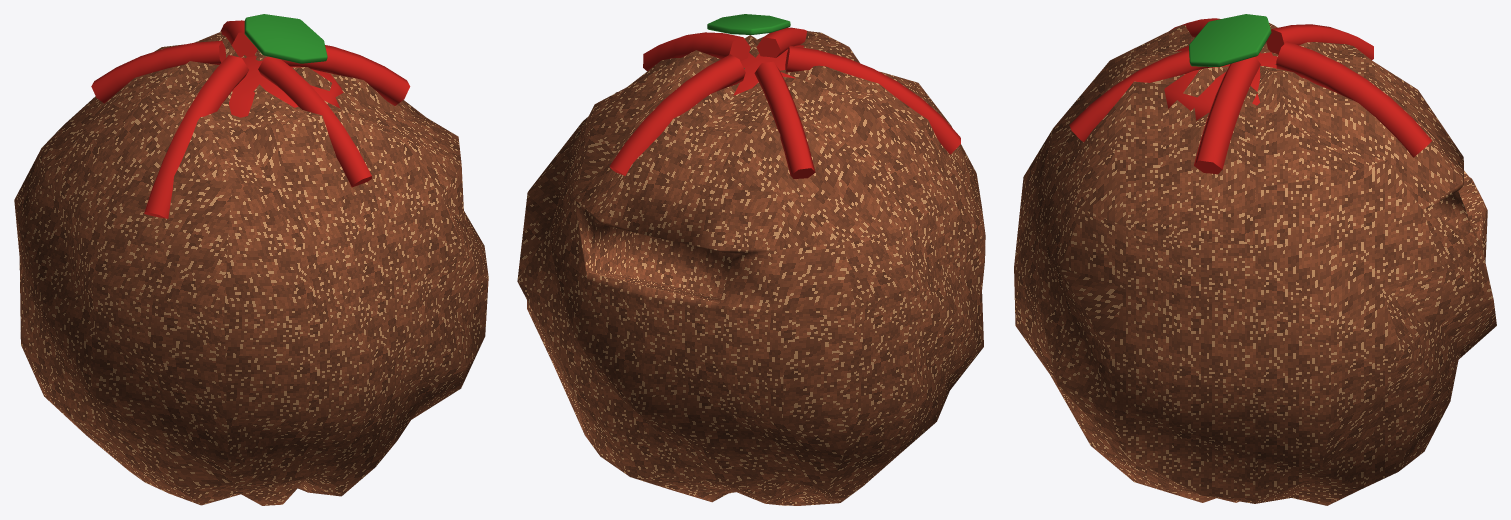
Rendered from x_wreck_meatball.glb.
The picture shows the model from 3 angles, left to right: view 1: azimuth 30°, elevation 25°; view 2: azimuth 150°, elevation 25°; view 3: azimuth 270°, elevation 25°; orthographic projection. The views are drawn at different scales.
Visible parts, largest first — view 1: ball_shell.002; view 2: ball_shell.002; view 3: ball_shell.002.
Boxes of the visible parts, box(x1,y1,x2,y2) form: ball_shell.002: box(14, 14, 488, 505); ball_shell.002: box(517, 14, 985, 505); ball_shell.002: box(1014, 14, 1496, 505).
Size of the model in its own units: 2.23 by 2.41 by 2.23.
3 materials, 1 textured.
